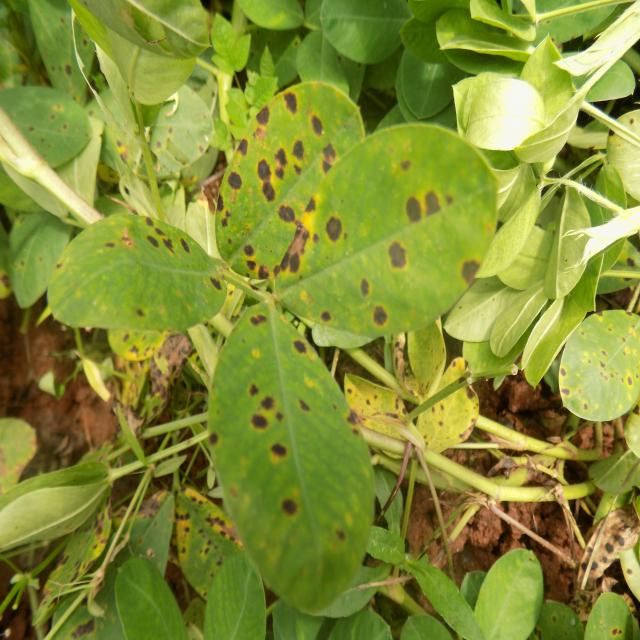Ground nut_tikka leaf spot: (205, 298, 373, 610), (270, 126, 493, 331), (215, 82, 361, 282), (49, 216, 221, 332)
